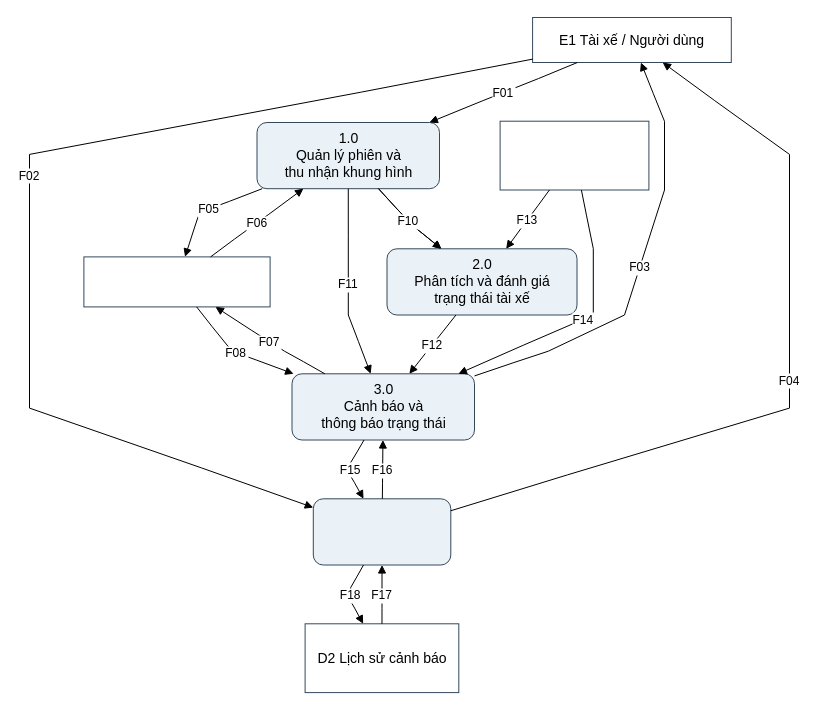
The diagram is 818 pixels wide and 711 high, and some of its shapes have lost their labels. The shapes that lost their labels are listed below. From the top down, each one's centre as x and y in pixels, then its label:
the point at 574,155: D1 Cấu hình cục bộ
the point at 176,281: E2 Điện thoại Dịch vụ hệ điều hành
the point at 381,531: 4.0 Quản lý lịch sử cảnh báo
